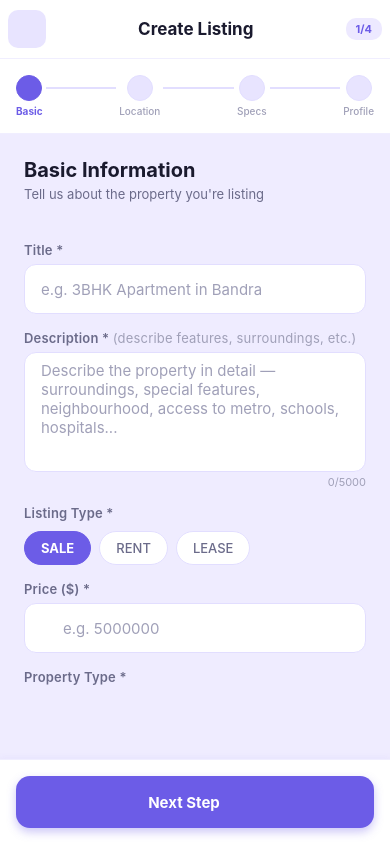
Test case: CreateListingScreen stale draft reset (Bug F) › repopulates city/state from the currently selected city after a focus reset
Type "New Listing" into the field with placeholder "e.g. 3BHK Apartment in Bandra" at (195, 289), box [24, 264, 366, 314]
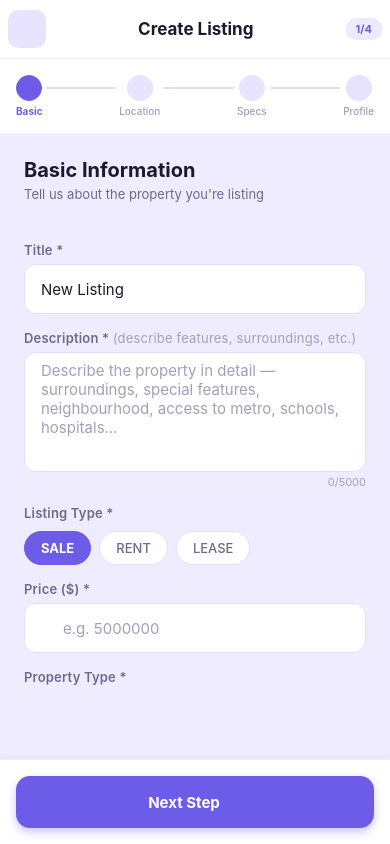
Replace the text in the text box with placeholder "Describe the property in detail" with "A description." at (195, 412), box [24, 352, 366, 472]
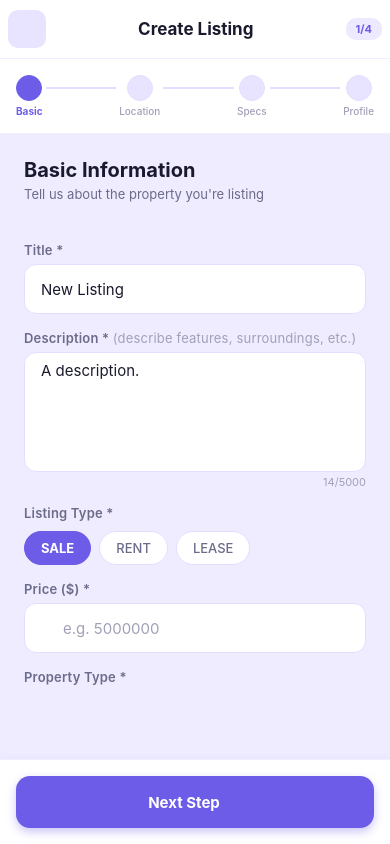
Type "500000" into the field with placeholder "e.g. 5000000" at (206, 628), box [63, 618, 349, 638]
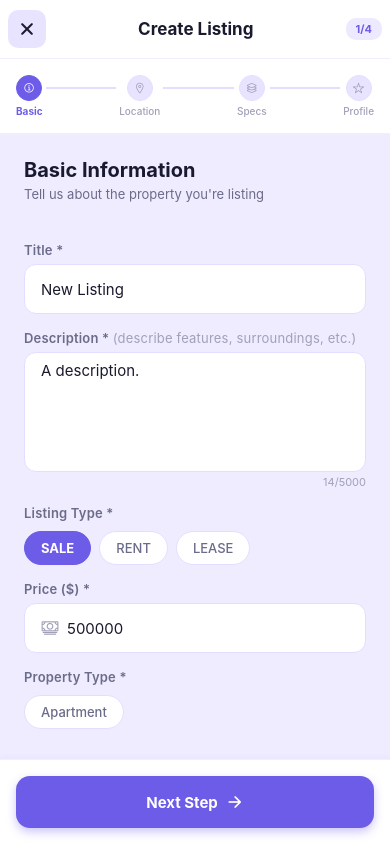
Click the text "Apartment" at (74, 712), box [41, 704, 107, 720]
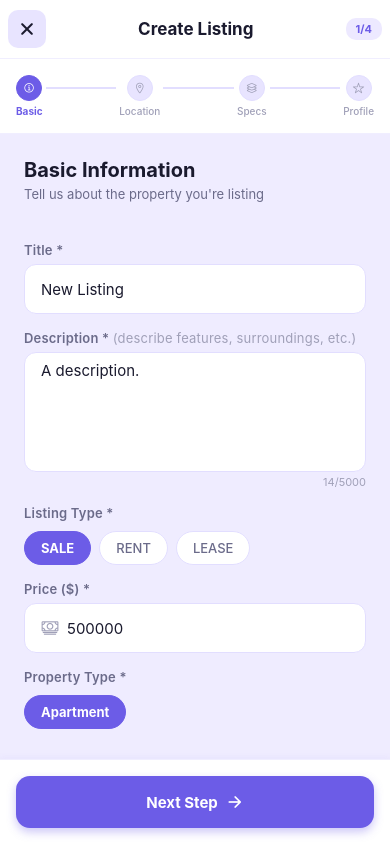
Click the text "Next Step" at (182, 802), box [146, 792, 218, 812]
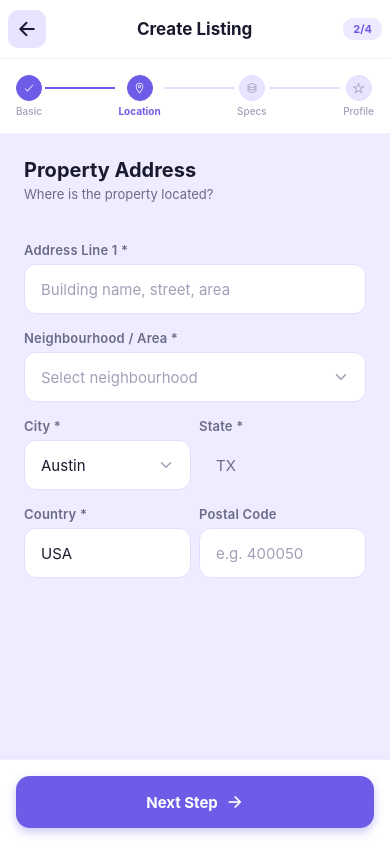
expect the text "Austin" is shown: met, box [41, 456, 86, 474]
expect the field showing "TX" below "State *" is shown: met, box [199, 440, 366, 490]
